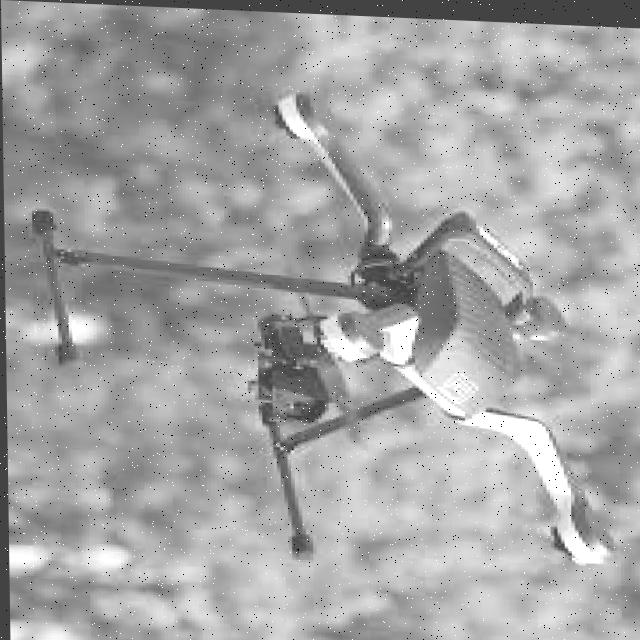drone: (17, 82, 622, 580)
